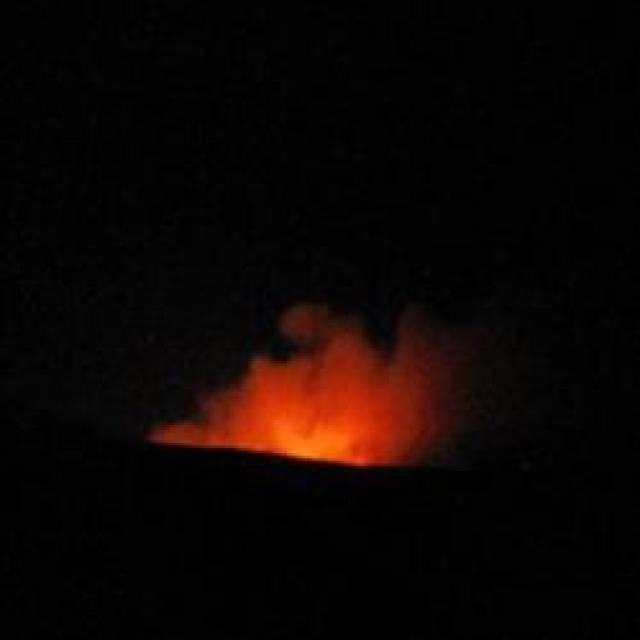smoke: (195, 326, 442, 459)
